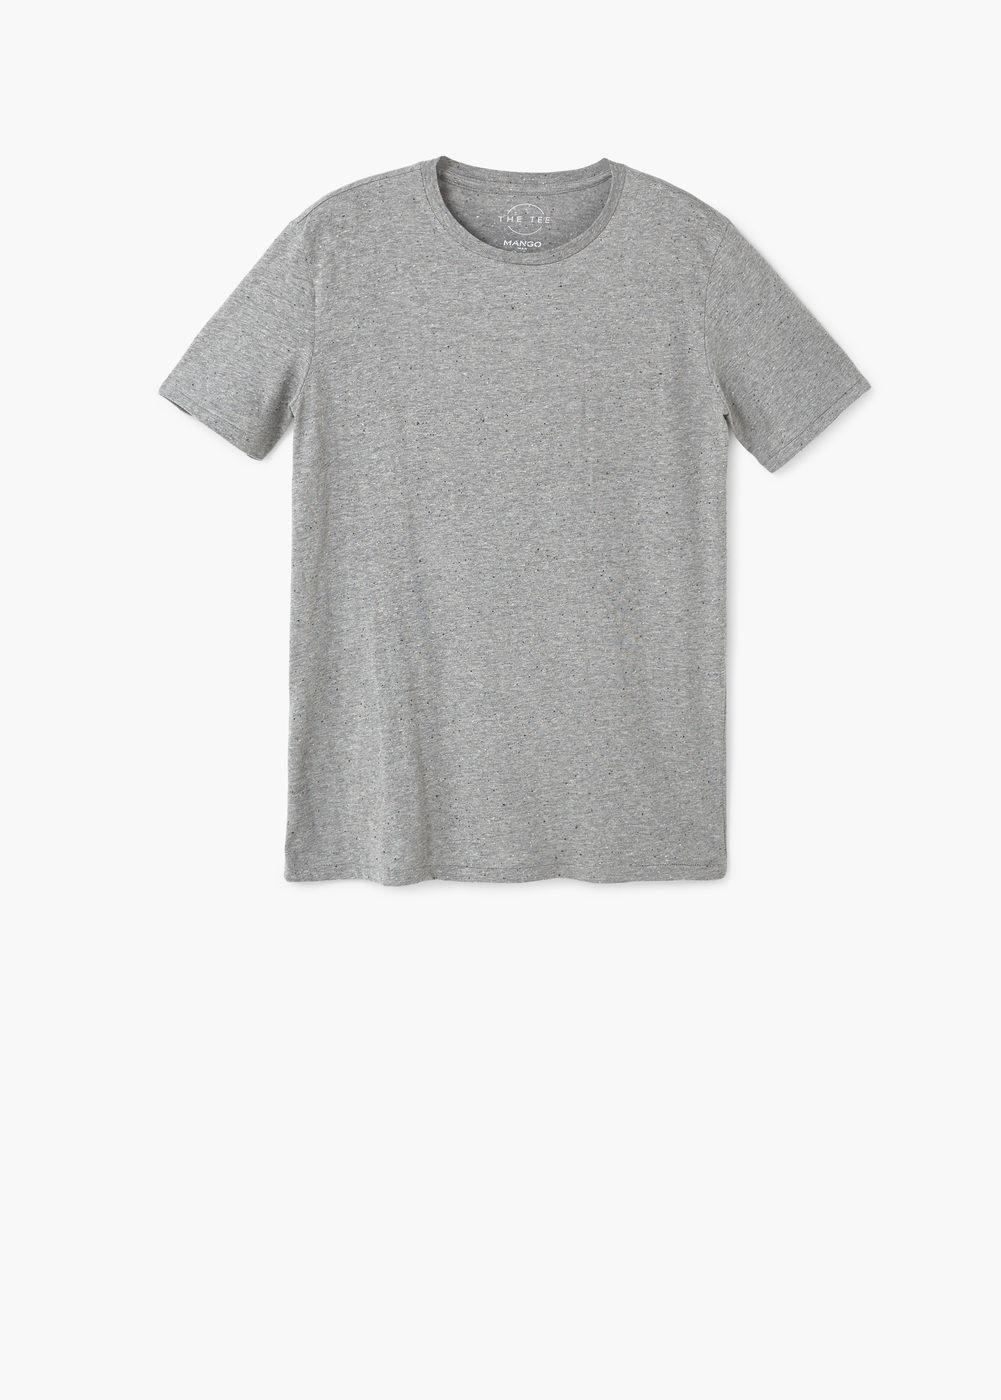teeshirt: (146, 138, 931, 963)
